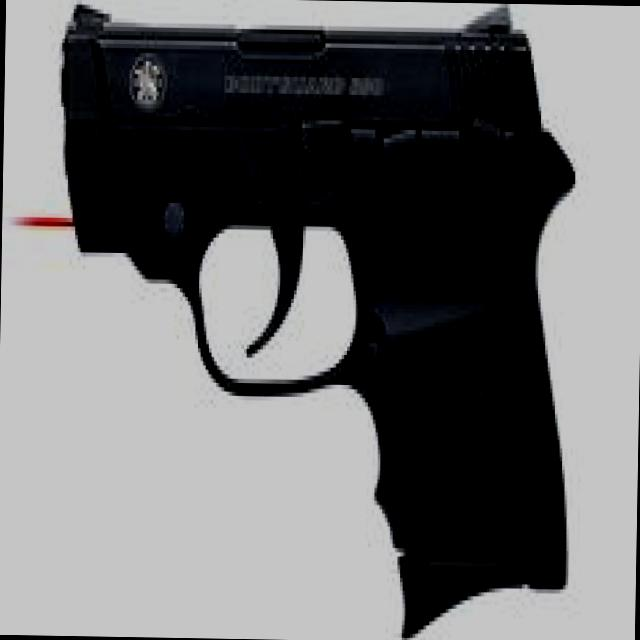semi automatic: (47, 0, 598, 640)
